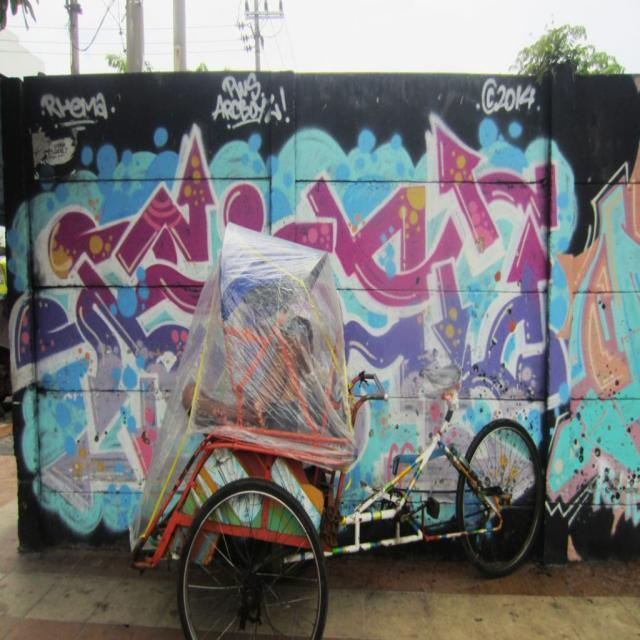-: (10, 129, 640, 538), (212, 76, 289, 132), (40, 93, 111, 121), (482, 80, 536, 116)
